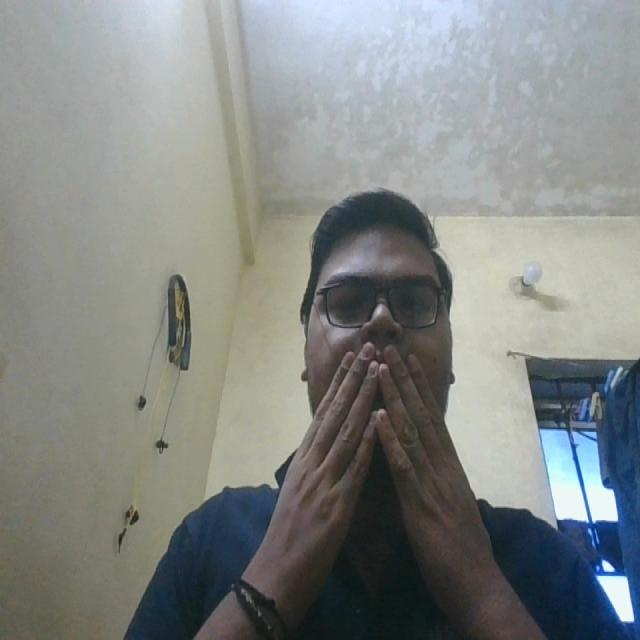Thanks: (278, 323, 484, 592)
